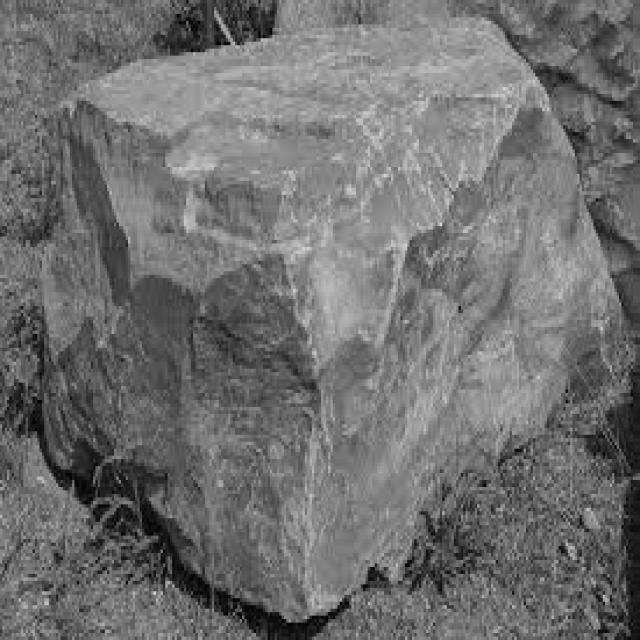Stone: (44, 0, 624, 622)
